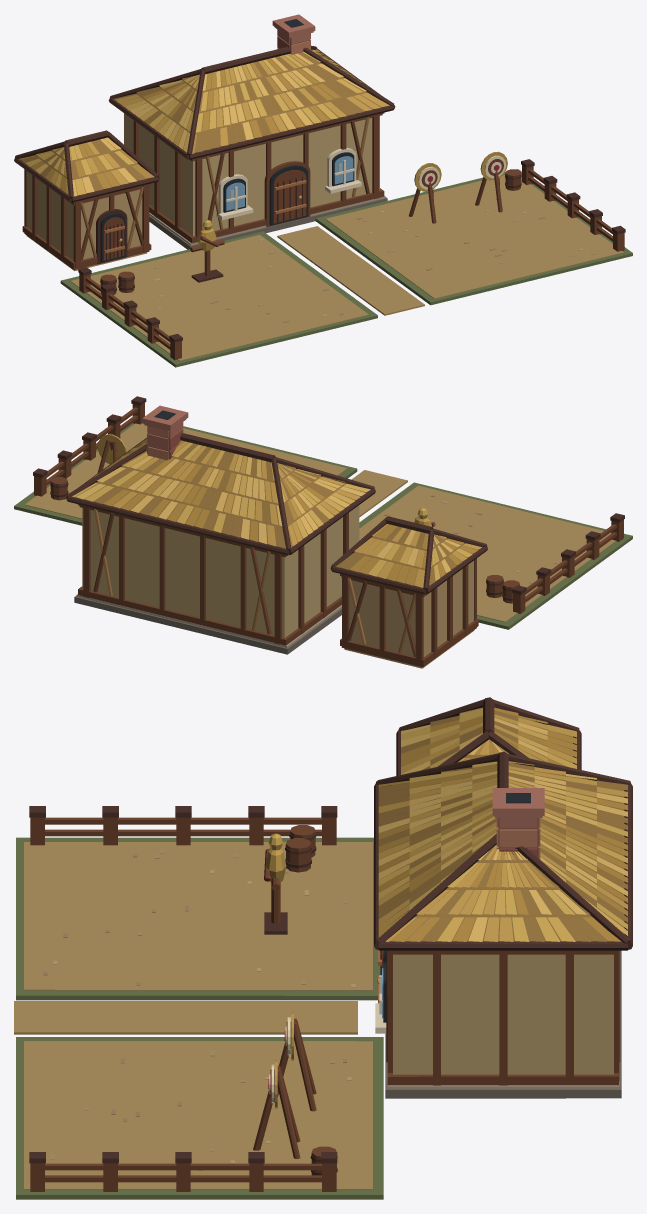
Rendered from barracks-nivel-2.glb.
3 renders of one model, top to bottom at view 1: azimuth 30°, elevation 25°; view 2: azimuth 150°, elevation 25°; view 3: azimuth 270°, elevation 25°, orthographic. The views are drawn at different scales.
Visible parts, largest first — view 1: Pátio dos fundibulários #ad8f5a, Pátio dos fundibulários #70432c, Pátio dos fundibulários #bda371, Pátio dos fundibulários #4c3028, Pátio dos fundibulários #92703a, Pátio dos fundibulários #68744a, Pátio dos fundibulários #bc9549, Pátio dos fundibulários #d4ae5e, Pátio dos fundibulários #b99a6a, Pátio dos fundibulários #c8a452, Pátio dos fundibulários #ab843d, Pátio dos fundibulários #252c32 (+6 smaller); view 2: Pátio dos fundibulários #70432c, Pátio dos fundibulários #bda371, Pátio dos fundibulários #ad8f5a, Pátio dos fundibulários #92703a, Pátio dos fundibulários #4c3028, Pátio dos fundibulários #b99a6a, Pátio dos fundibulários #bc9549, Pátio dos fundibulários #ab843d, Pátio dos fundibulários #d4ae5e, Pátio dos fundibulários #c8a452, Pátio dos fundibulários #68744a, Pátio dos fundibulários #746c62 (+4 smaller); view 3: Pátio dos fundibulários #ad8f5a, Pátio dos fundibulários #70432c, Pátio dos fundibulários #bda371, Pátio dos fundibulários #92703a, Pátio dos fundibulários #4c3028, Pátio dos fundibulários #68744a, Pátio dos fundibulários #bc9549, Pátio dos fundibulários #ab843d, Pátio dos fundibulários #c8a452, Pátio dos fundibulários #d4ae5e, Pátio dos fundibulários #746c62, Pátio dos fundibulários #ac6f5e (+2 smaller).
Part boxes in pixels (box(x1,y1,x2,y2)): Pátio dos fundibulários #ad8f5a: box(70, 175, 623, 361); Pátio dos fundibulários #70432c: box(22, 112, 624, 360); Pátio dos fundibulários #bda371: box(124, 113, 379, 236); Pátio dos fundibulários #4c3028: box(14, 45, 625, 342); Pátio dos fundibulários #92703a: box(20, 49, 381, 195); Pátio dos fundibulários #68744a: box(60, 169, 632, 367); Pátio dos fundibulários #bc9549: box(19, 52, 507, 251); Pátio dos fundibulários #d4ae5e: box(35, 50, 366, 196); Pátio dos fundibulários #b99a6a: box(27, 171, 146, 270); Pátio dos fundibulários #c8a452: box(25, 52, 362, 230); Pátio dos fundibulários #ab843d: box(30, 49, 367, 192); Pátio dos fundibulários #252c32: box(100, 19, 354, 262); Pátio dos fundibulários #70432c: box(34, 403, 623, 667); Pátio dos fundibulários #bda371: box(82, 505, 359, 637); Pátio dos fundibulários #ad8f5a: box(24, 423, 615, 622); Pátio dos fundibulários #92703a: box(75, 441, 477, 584); Pátio dos fundibulários #4c3028: box(33, 396, 624, 600); Pátio dos fundibulários #b99a6a: box(344, 561, 474, 668); Pátio dos fundibulários #bc9549: box(97, 434, 481, 587); Pátio dos fundibulários #ab843d: box(103, 439, 477, 585); Pátio dos fundibulários #d4ae5e: box(76, 454, 460, 573); Pátio dos fundibulários #c8a452: box(72, 442, 472, 581); Pátio dos fundibulários #68744a: box(14, 423, 632, 629); Pátio dos fundibulários #746c62: box(74, 595, 341, 654); Pátio dos fundibulários #ad8f5a: box(14, 842, 372, 1189); Pátio dos fundibulários #70432c: box(30, 817, 620, 1191); Pátio dos fundibulários #bda371: box(393, 954, 613, 1074); Pátio dos fundibulários #92703a: box(378, 710, 627, 941); Pátio dos fundibulários #4c3028: box(29, 697, 632, 1175); Pátio dos fundibulários #68744a: box(16, 837, 383, 1199); Pátio dos fundibulários #bc9549: box(265, 707, 627, 1108); Pátio dos fundibulários #ab843d: box(378, 707, 627, 941); Pátio dos fundibulários #c8a452: box(268, 709, 627, 941); Pátio dos fundibulários #d4ae5e: box(378, 717, 627, 941); Pátio dos fundibulários #746c62: box(385, 950, 621, 1098); Pátio dos fundibulários #ac6f5e: box(492, 788, 544, 846).
Size of the model in its own units: 13.45 by 4.57 by 9.85.
